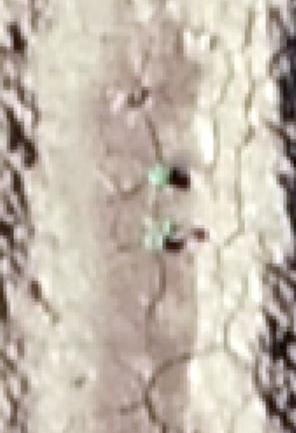cotton: (146, 222, 166, 248), (149, 164, 168, 186)
